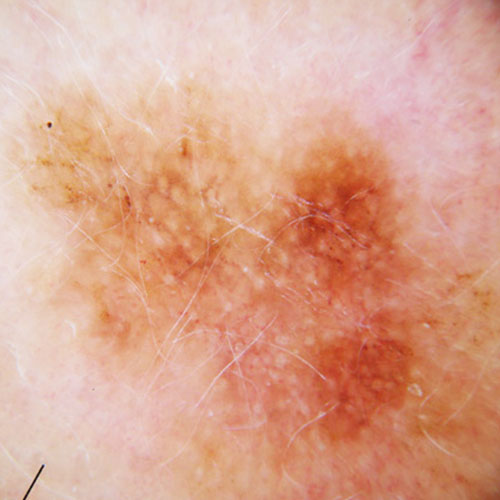melanoma: (28, 62, 451, 467)
